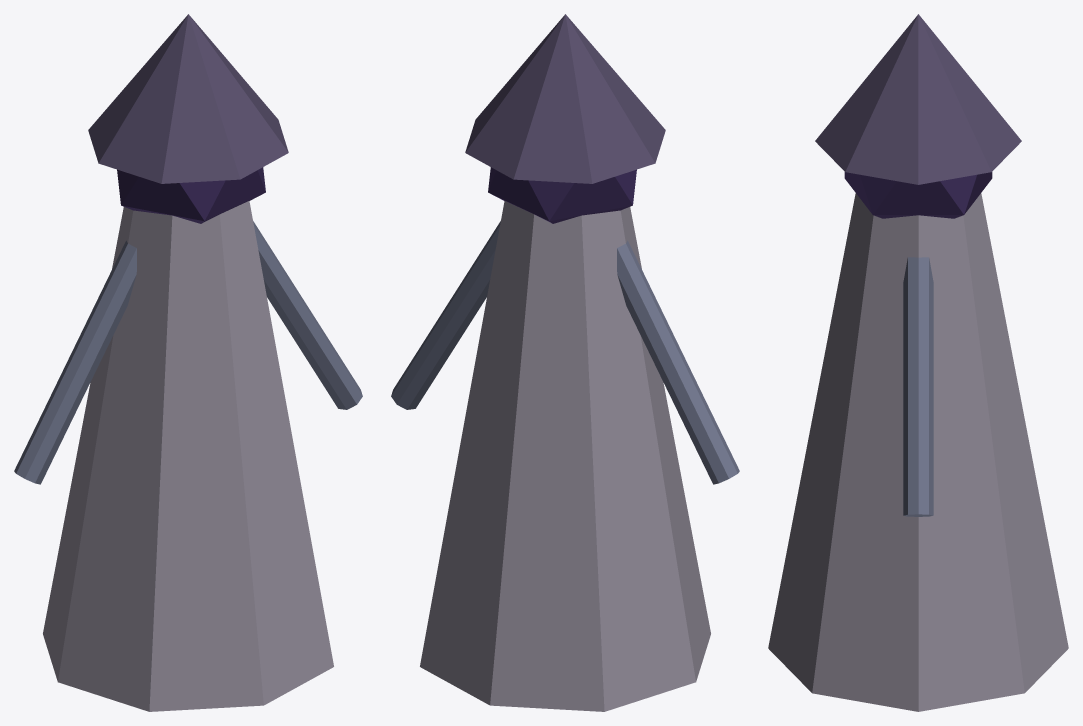
Rendered from shade.glb.
3 views of the same model, side by side, from view 1: azimuth 30°, elevation 25°; view 2: azimuth 150°, elevation 25°; view 3: azimuth 270°, elevation 25° (orthographic).
Parts seen in each view (by area): view 1: shade-cloak, shade-hood, shade-left-blade, shade-right-blade, shade-mask; view 2: shade-cloak, shade-hood, shade-left-blade, shade-right-blade, shade-mask; view 3: shade-cloak, shade-hood, shade-right-blade, shade-mask.
Part boxes in pixels (box(x1,y1,x2,y2)): shade-cloak: box(43, 201, 333, 711); shade-hood: box(88, 14, 288, 183); shade-left-blade: box(14, 240, 136, 484); shade-right-blade: box(253, 221, 362, 409); shade-mask: box(117, 167, 265, 223); shade-cloak: box(420, 201, 710, 711); shade-hood: box(465, 14, 665, 183); shade-left-blade: box(617, 240, 739, 484); shade-right-blade: box(391, 221, 500, 409); shade-mask: box(488, 167, 636, 223); shade-cloak: box(768, 193, 1068, 711); shade-hood: box(815, 14, 1021, 184); shade-right-blade: box(903, 257, 933, 516); shade-mask: box(844, 172, 992, 218).
Bounding box in the file's own units: 1.19 × 2.09 × 0.9.
